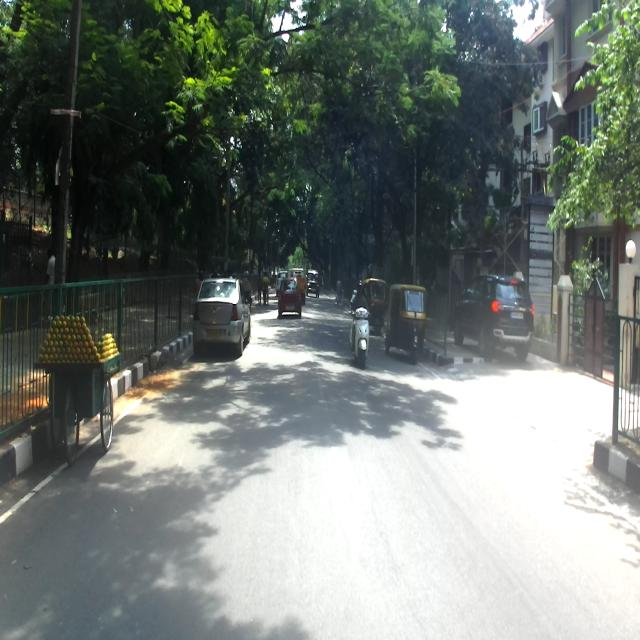auto ahead at: (387, 279, 427, 363)
car ahead at: (194, 273, 252, 355)
motorcycle ahead at: (349, 304, 373, 369)
